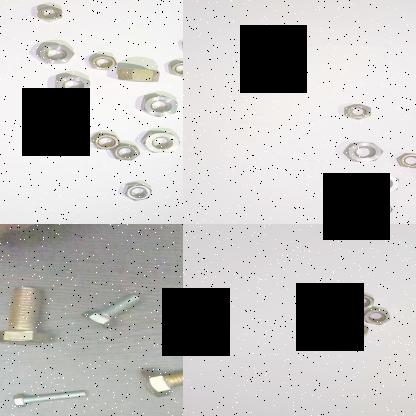Bolts: (0, 283, 54, 350), (77, 287, 148, 333), (0, 384, 88, 410), (128, 360, 183, 400)
NUTS: (355, 168, 402, 196), (137, 90, 181, 118), (140, 128, 181, 156), (34, 42, 78, 68), (46, 120, 92, 144), (48, 74, 93, 98), (340, 140, 384, 164), (112, 66, 164, 86), (338, 102, 378, 122), (48, 102, 86, 122), (107, 140, 140, 163), (121, 181, 152, 205), (30, 3, 66, 23), (310, 310, 346, 330), (338, 320, 370, 342), (356, 201, 394, 219), (82, 52, 116, 72), (360, 306, 392, 326), (309, 291, 341, 311), (348, 292, 378, 310), (93, 132, 118, 153), (393, 152, 416, 172), (166, 59, 183, 79), (354, 218, 398, 224)
